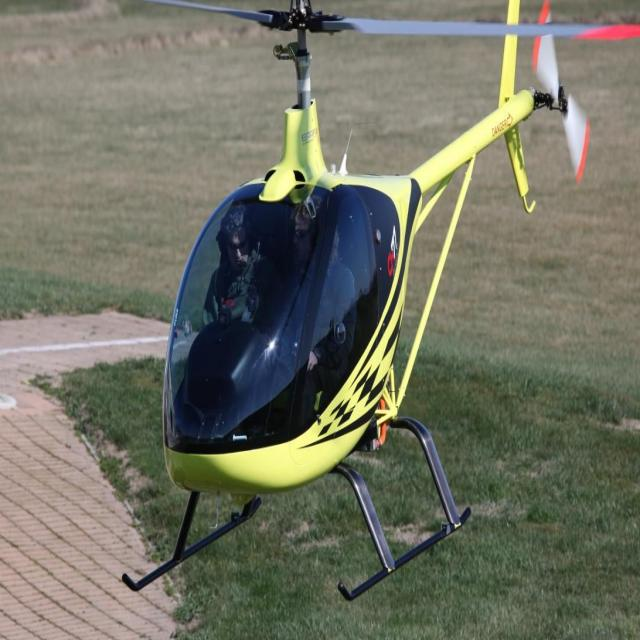helicopter: (28, 1, 640, 599)
